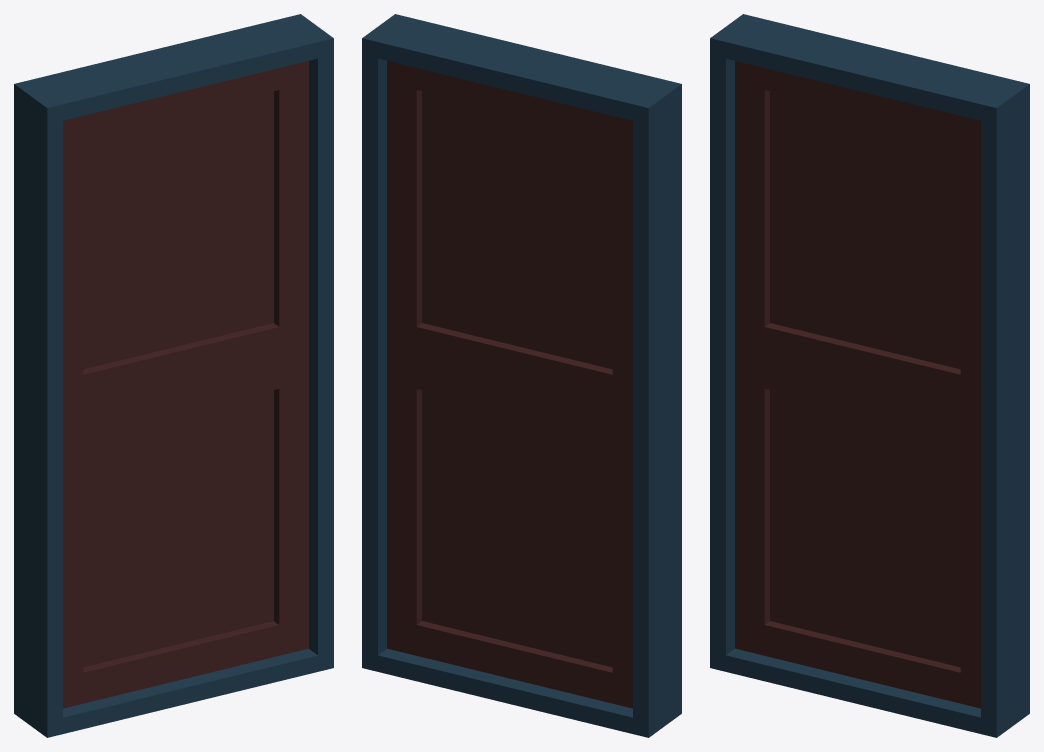
File: door.fbx
3 views of the same model, side by side, from view 1: azimuth 30°, elevation 25°; view 2: azimuth 150°, elevation 25°; view 3: azimuth 330°, elevation 25° (orthographic).
Visible parts, largest first — view 1: door, box; view 2: door, box; view 3: door, box.
Boxes of the visible parts, bbox=[...] form: door: bbox=[63, 61, 308, 708]; box: bbox=[14, 14, 333, 737]; door: bbox=[387, 61, 632, 708]; box: bbox=[362, 14, 681, 737]; door: bbox=[735, 61, 980, 708]; box: bbox=[710, 14, 1029, 737].
Bounding box in the file's own units: 100 × 210 × 20.
